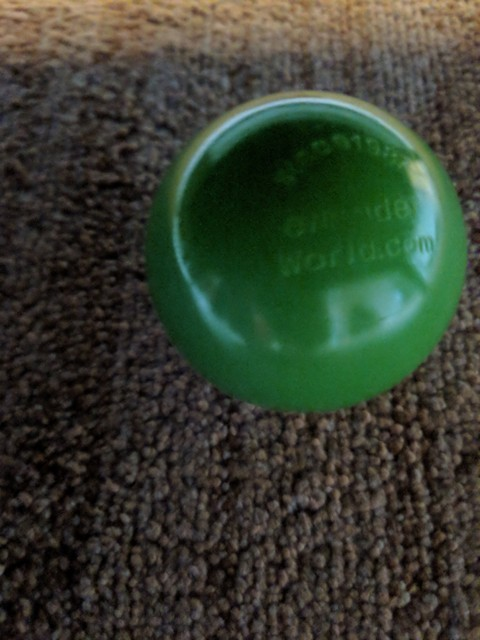ball: (144, 86, 469, 415)
